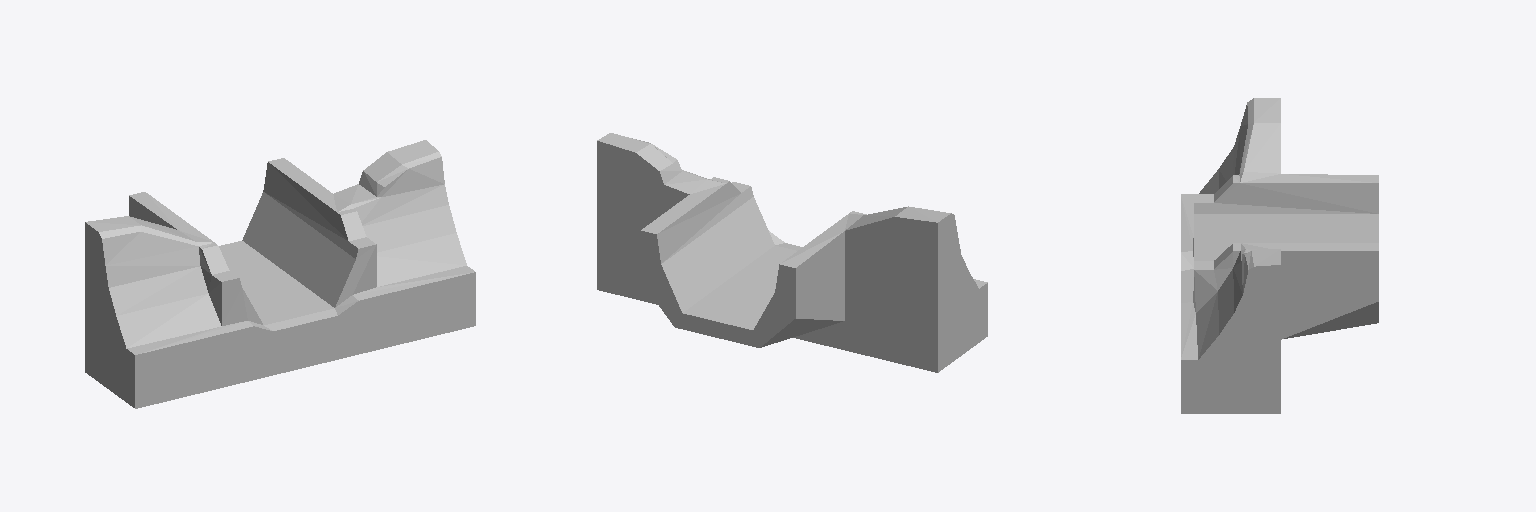
The model's file is wall_down4.obj.
3 renders of one model, left to right at view 1: azimuth 30°, elevation 25°; view 2: azimuth 150°, elevation 25°; view 3: azimuth 270°, elevation 25°, orthographic.
Visible parts, largest first — view 1: wall_down4; view 2: wall_down4; view 3: wall_down4.
Part boxes in pixels (left/top/right/bottom): wall_down4: left=85, top=140, right=475, bottom=408; wall_down4: left=597, top=133, right=987, bottom=372; wall_down4: left=1181, top=98, right=1378, bottom=413.
Size of the model in its own units: 8 by 3.37 by 4.05.